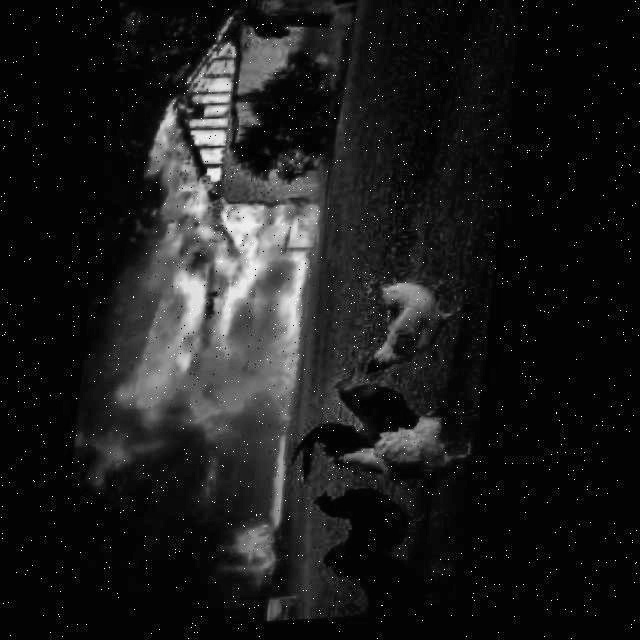Fire: (92, 0, 342, 440), (220, 430, 299, 591)
